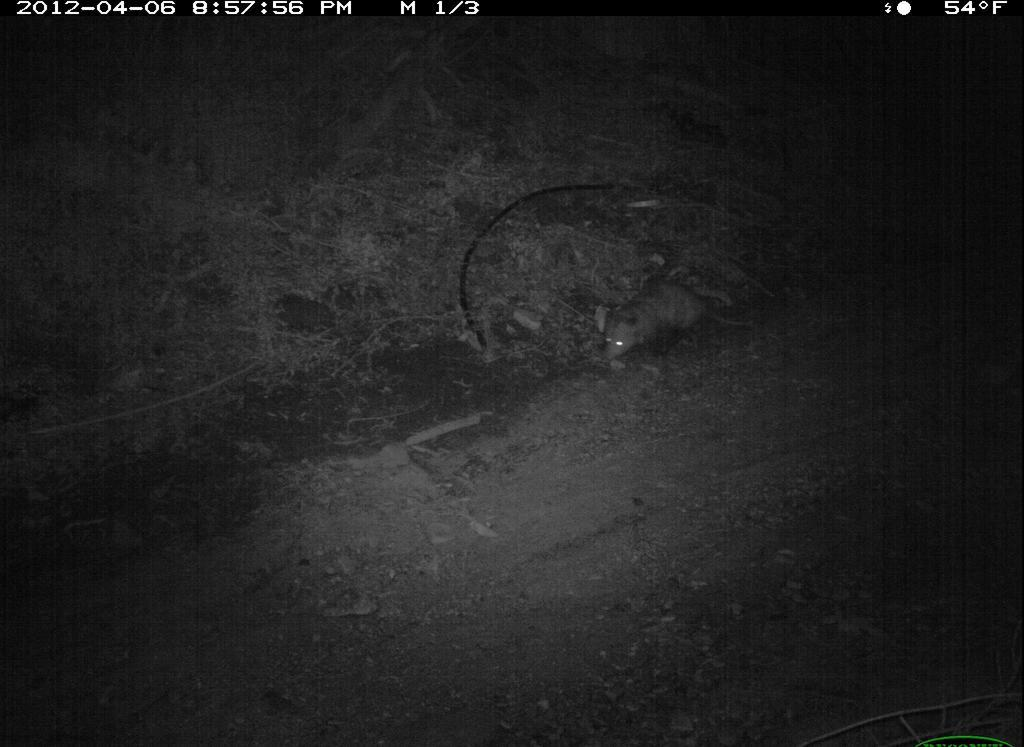opossum: (584, 267, 766, 381)
